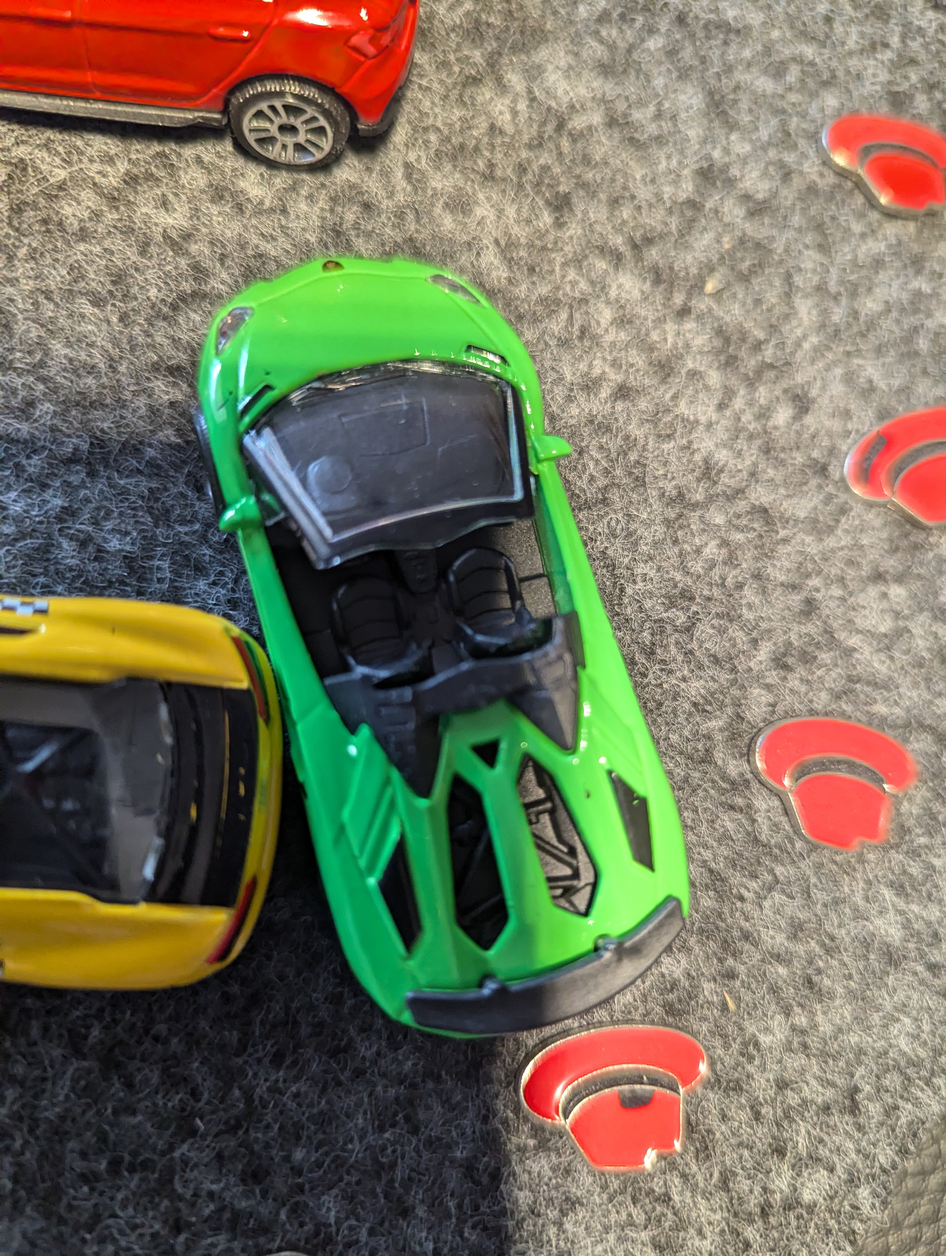Car: (168, 222, 737, 1080), (0, 0, 473, 195)
Red-Hat: (496, 1018, 728, 1179), (734, 696, 929, 879), (795, 72, 946, 240), (817, 370, 946, 559)
Scratch: (843, 411, 902, 499), (610, 1065, 679, 1121)
